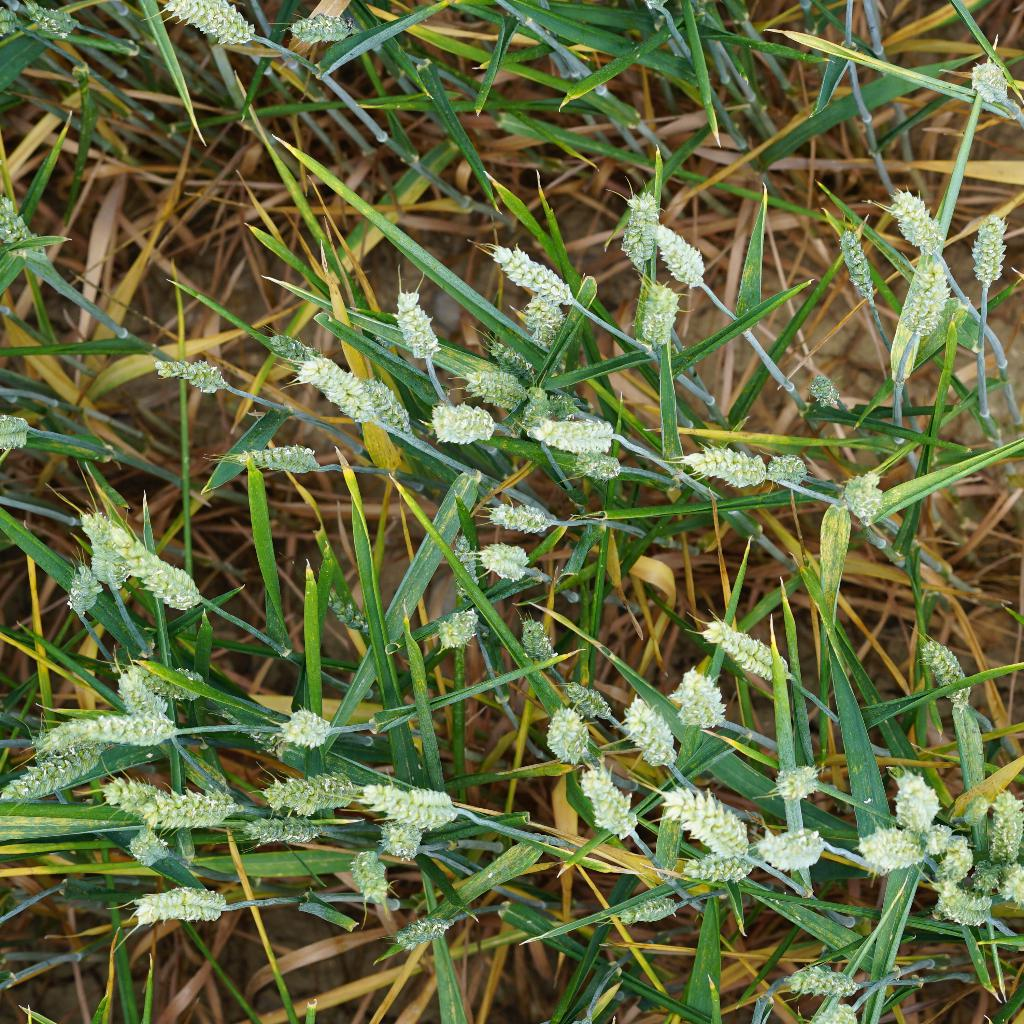0-0: (96, 773, 246, 840), (688, 613, 806, 691), (21, 705, 189, 754), (354, 778, 493, 836), (666, 429, 772, 500), (1, 747, 107, 818), (477, 242, 575, 318), (572, 758, 647, 847), (217, 425, 324, 484), (512, 411, 632, 463), (522, 697, 604, 773), (619, 690, 691, 776), (127, 878, 239, 933), (385, 275, 444, 376), (133, 546, 213, 620), (288, 343, 363, 421), (665, 787, 754, 851), (141, 342, 232, 404), (828, 223, 892, 309), (78, 509, 137, 600), (157, 0, 258, 52), (413, 391, 497, 453), (916, 635, 980, 714), (656, 669, 731, 735), (848, 822, 925, 886), (814, 468, 892, 531), (627, 275, 690, 352), (250, 806, 347, 856), (900, 260, 955, 347), (875, 187, 952, 249), (647, 221, 710, 296), (0, 188, 56, 272), (261, 768, 365, 813), (98, 660, 171, 720), (960, 210, 1016, 288), (490, 494, 574, 545), (964, 43, 1024, 114), (362, 374, 418, 449), (456, 352, 522, 415), (332, 848, 399, 909), (793, 363, 854, 429), (314, 580, 380, 641), (940, 879, 1013, 931), (778, 960, 868, 1002), (266, 697, 340, 748), (617, 182, 660, 269), (139, 646, 209, 699), (276, 0, 352, 48), (751, 821, 830, 867), (418, 604, 486, 654), (889, 768, 945, 826), (397, 901, 463, 950), (617, 885, 688, 929), (58, 563, 109, 623), (496, 617, 559, 664), (474, 541, 535, 589), (545, 672, 605, 720), (19, 0, 91, 40), (765, 759, 822, 808), (482, 337, 539, 385), (990, 791, 1024, 866), (377, 818, 432, 864), (683, 847, 761, 879), (516, 290, 559, 348), (121, 823, 176, 867), (516, 381, 555, 437), (795, 996, 868, 1024), (915, 821, 954, 872), (763, 448, 810, 490), (572, 450, 625, 487), (941, 832, 977, 884), (968, 855, 1008, 901), (0, 411, 40, 453), (544, 390, 582, 426), (961, 790, 994, 828), (1005, 861, 1024, 907)
